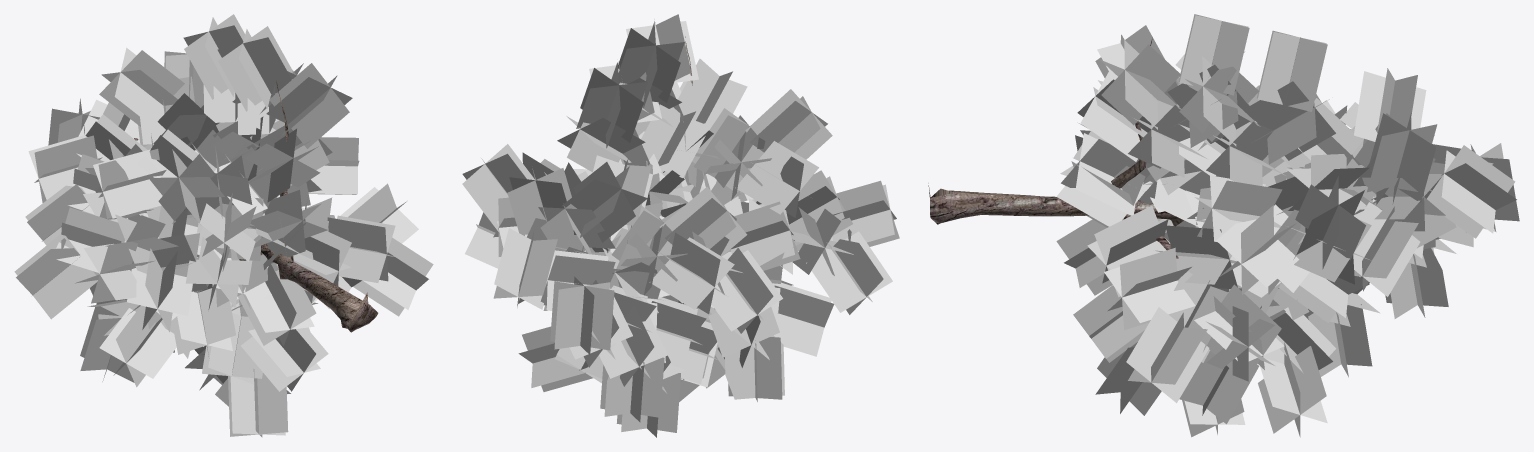
The model's file is Tree 01 Elaborate LO 1.fbx.
3 views of the same model, side by side, from view 1: azimuth 30°, elevation 25°; view 2: azimuth 150°, elevation 25°; view 3: azimuth 270°, elevation 25° (orthographic). The views are drawn at different scales.
Parts seen in each view (by area): view 1: Tree 01 Elaborate LO; view 2: Tree 01 Elaborate LO; view 3: Tree 01 Elaborate LO.
Part boxes in pixels (x1,y1,x2,y2): Tree 01 Elaborate LO: [14, 14, 433, 437]; Tree 01 Elaborate LO: [462, 14, 899, 437]; Tree 01 Elaborate LO: [928, 14, 1519, 437].
Bounding box in the file's own units: 163 × 149 × 187.
Materials: 2 (1 with a texture image).
